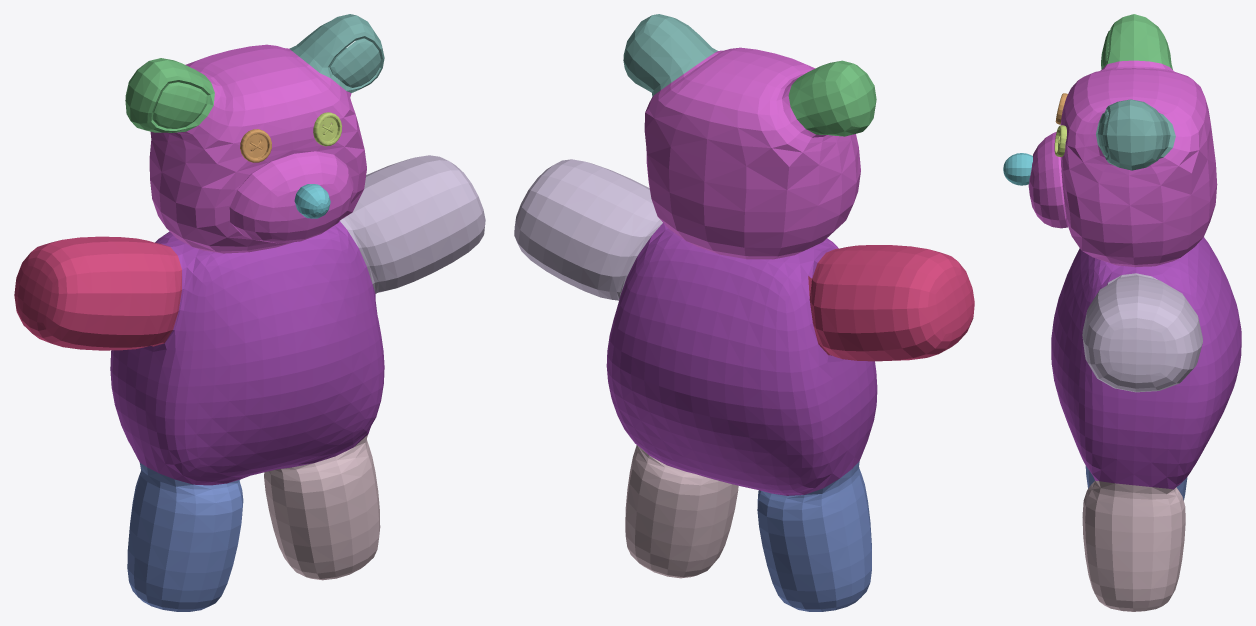
File: full_22.glb
The picture shows the model from 3 angles, left to right: view 1: azimuth 30°, elevation 25°; view 2: azimuth 150°, elevation 25°; view 3: azimuth 270°, elevation 25°; orthographic projection. The views are drawn at different scales.
Parts seen in each view (by area): view 1: world; view 2: world; view 3: world.
Boxes of the visible parts, <box> form: world: <box>14,14,485,611</box>; world: <box>514,14,974,611</box>; world: <box>1003,14,1241,611</box>.
Size of the model in its own units: 0.6099 by 0.7302 by 0.3078.
